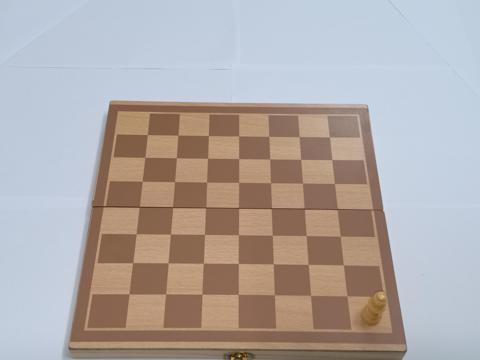xcorner: (143, 131, 153, 141), (134, 203, 144, 213), (131, 230, 141, 240), (201, 178, 211, 188), (196, 290, 206, 300), (297, 179, 307, 189), (173, 132, 183, 141), (172, 154, 181, 164), (170, 178, 179, 188), (167, 204, 177, 213), (163, 259, 172, 269), (203, 154, 212, 164), (200, 204, 210, 213), (233, 179, 243, 188), (233, 204, 242, 214), (233, 231, 242, 241), (232, 291, 242, 300), (264, 132, 273, 142), (265, 179, 275, 188), (266, 204, 275, 214), (268, 260, 277, 270), (296, 155, 305, 165), (305, 291, 314, 301), (324, 133, 334, 142), (329, 180, 339, 189), (335, 232, 344, 242), (141, 154, 150, 163), (138, 178, 147, 187), (128, 259, 137, 268), (124, 290, 133, 299), (165, 231, 174, 240), (160, 290, 169, 299), (204, 132, 213, 141), (199, 231, 208, 240), (198, 260, 207, 269), (234, 132, 243, 141), (234, 155, 243, 164), (233, 260, 242, 269), (265, 155, 274, 164), (267, 232, 276, 241), (269, 291, 278, 300), (294, 133, 303, 142), (299, 205, 308, 214), (301, 232, 310, 241), (303, 261, 312, 270), (327, 156, 336, 165), (332, 205, 341, 214), (338, 261, 347, 270), (341, 292, 350, 301)
